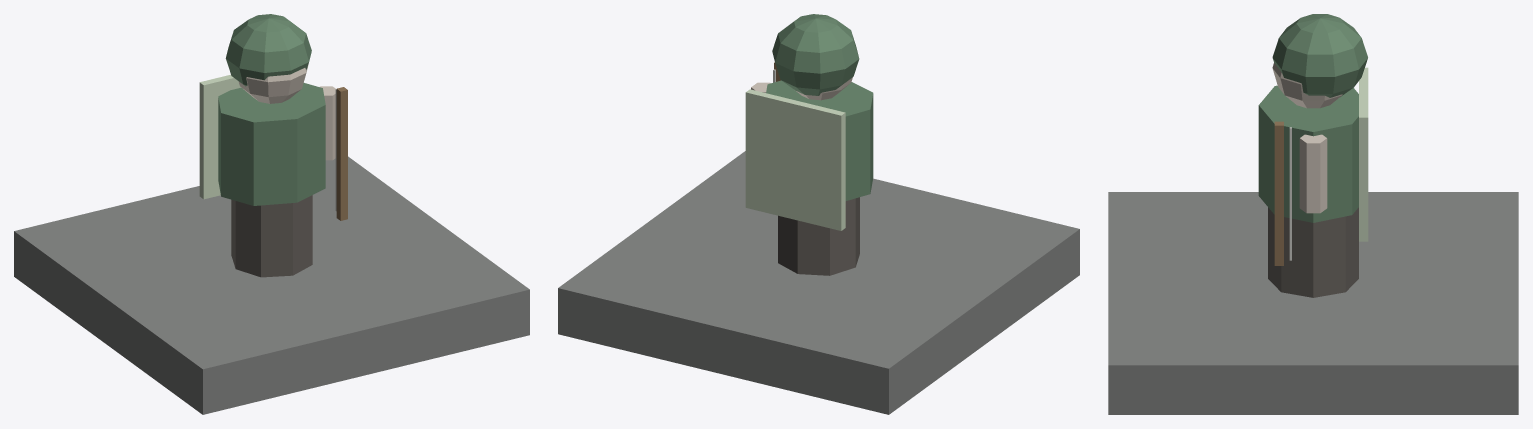
Rendered from elf_ranger.glb.
3 views of the same model, side by side, from view 1: azimuth 30°, elevation 25°; view 2: azimuth 150°, elevation 25°; view 3: azimuth 270°, elevation 25° (orthographic). The views are drawn at different scales.
Visible parts, largest first — view 1: Base, TurretMesh, ArmMesh; view 2: Base, TurretMesh; view 3: Base, TurretMesh, ArmMesh.
Boxes of the visible parts, bbox=[...] form: Base: bbox=[14, 156, 529, 414]; TurretMesh: bbox=[199, 14, 325, 277]; ArmMesh: bbox=[319, 86, 347, 220]; Base: bbox=[558, 151, 1079, 414]; TurretMesh: bbox=[745, 14, 873, 275]; Base: bbox=[1108, 192, 1518, 414]; TurretMesh: bbox=[1258, 14, 1368, 297]; ArmMesh: bbox=[1274, 121, 1327, 265].
Bounding box in the file's own units: 1.8 × 1.5 × 1.8.
